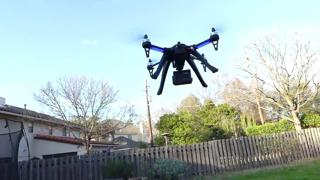UAV: (140, 28, 224, 96)
